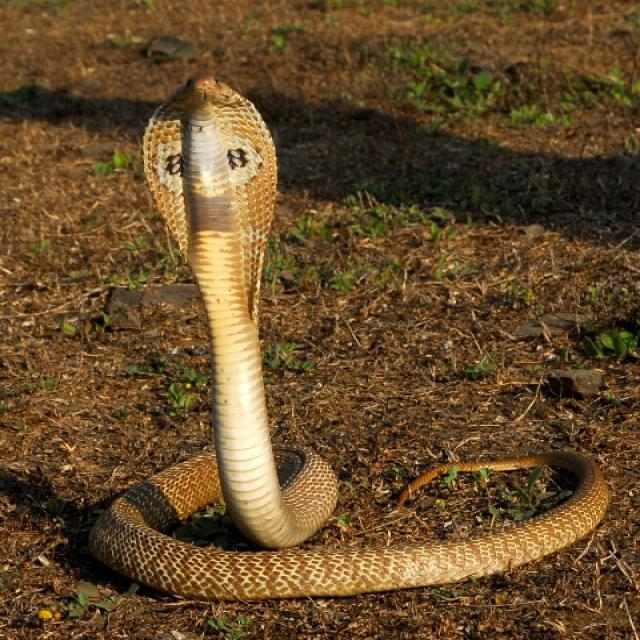Snake: (86, 73, 610, 602)
